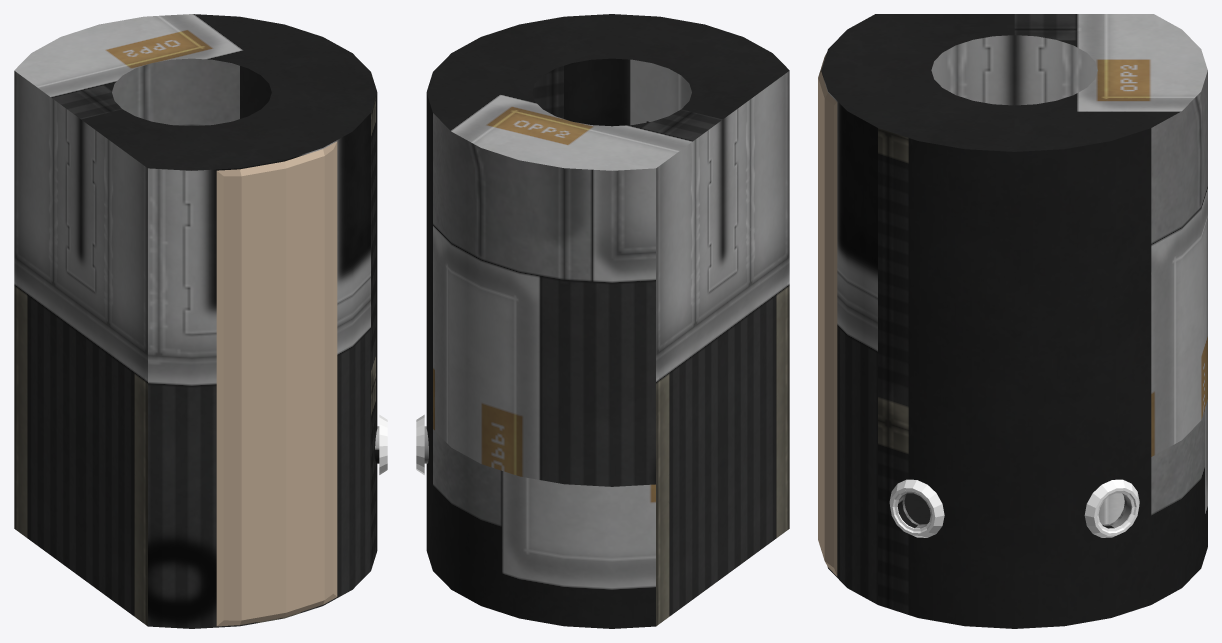
File: 1p2iva.obj
3 renders of one model, left to right at view 1: azimuth 30°, elevation 25°; view 2: azimuth 150°, elevation 25°; view 3: azimuth 270°, elevation 25°, orthographic. The views are drawn at different scales.
Visible parts, largest first — view 1: i2, im2; view 2: i2; view 3: i2, im2.
Part boxes in pixels (x1,y1,x2,y2): i2: (14, 14, 379, 628); im2: (216, 141, 387, 626); i2: (424, 14, 789, 628); i2: (821, 14, 1207, 628); im2: (818, 53, 1139, 576).
Size of the model in its own units: 1.23 by 1.98 by 1.46.
